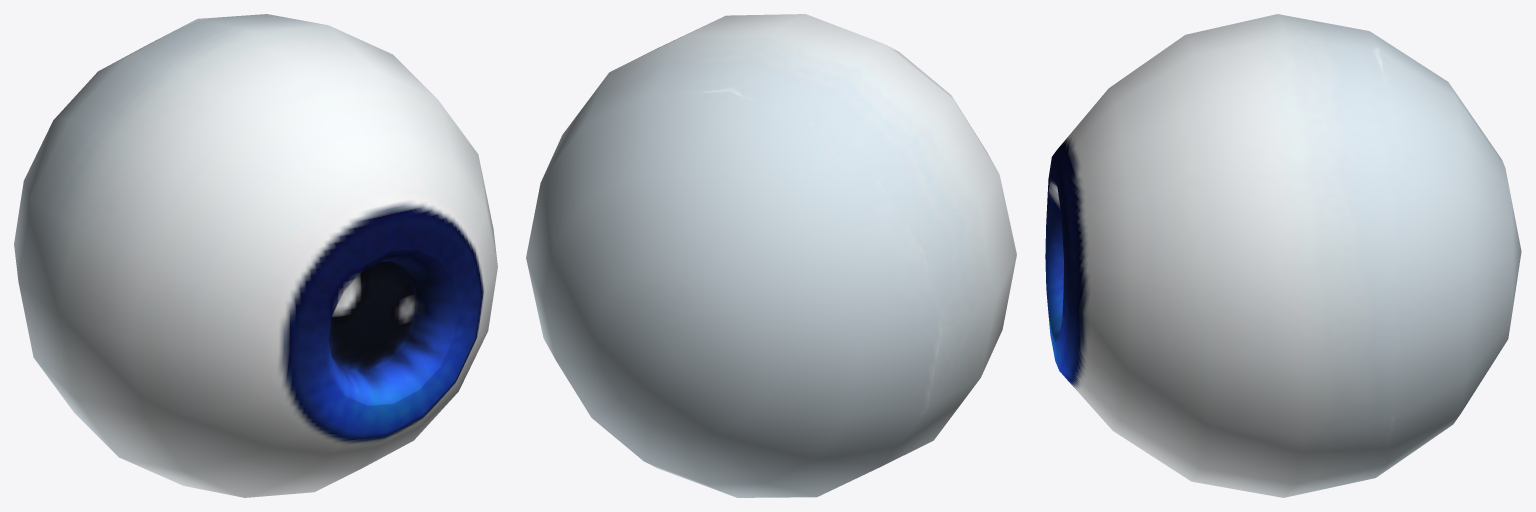
File: hashiqi_eye_right.fbx
3 renders of one model, left to right at view 1: azimuth 30°, elevation 25°; view 2: azimuth 150°, elevation 25°; view 3: azimuth 270°, elevation 25°, orthographic.
Parts seen in each view (by area): view 1: right; view 2: right; view 3: right.
Boxes of the visible parts, x1,y1,x2,y2 form: right: [14, 14, 497, 497]; right: [526, 14, 1016, 497]; right: [1045, 14, 1521, 497].
Bounding box in the file's own units: 0.0626 × 0.0627 × 0.0618.
